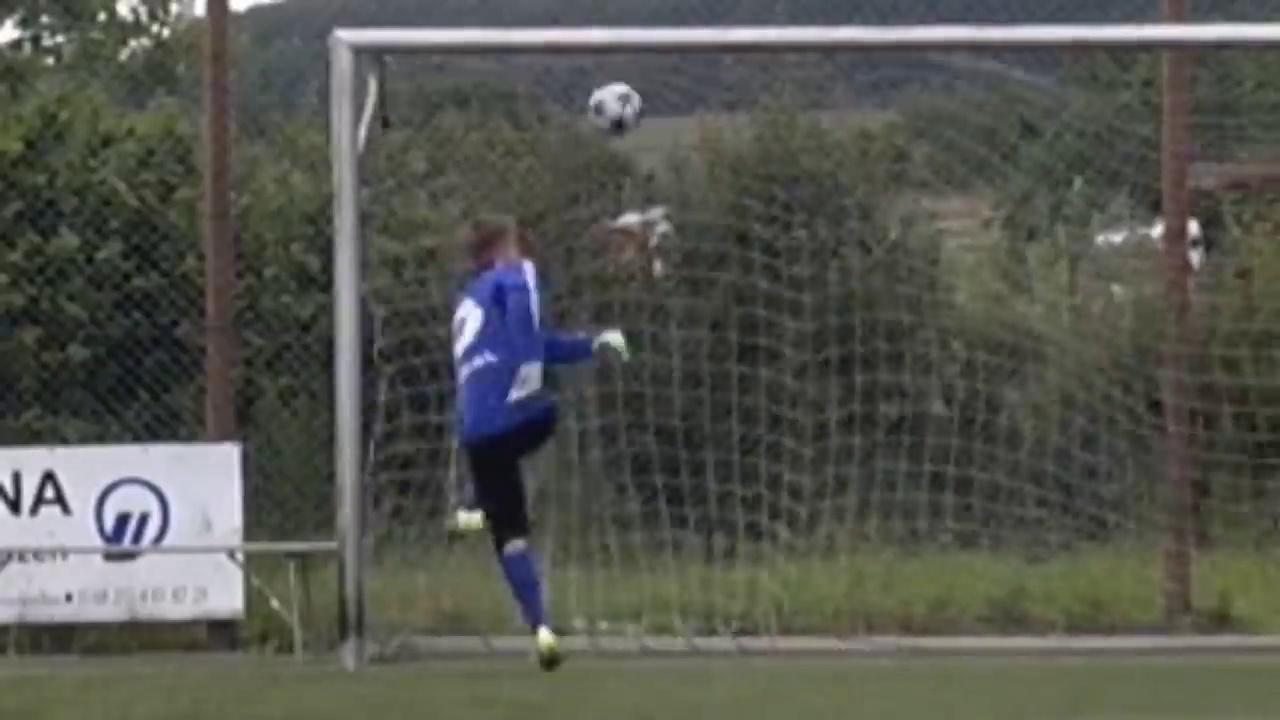ball: (588, 81, 643, 136)
goalkeeper: (447, 216, 632, 672)
